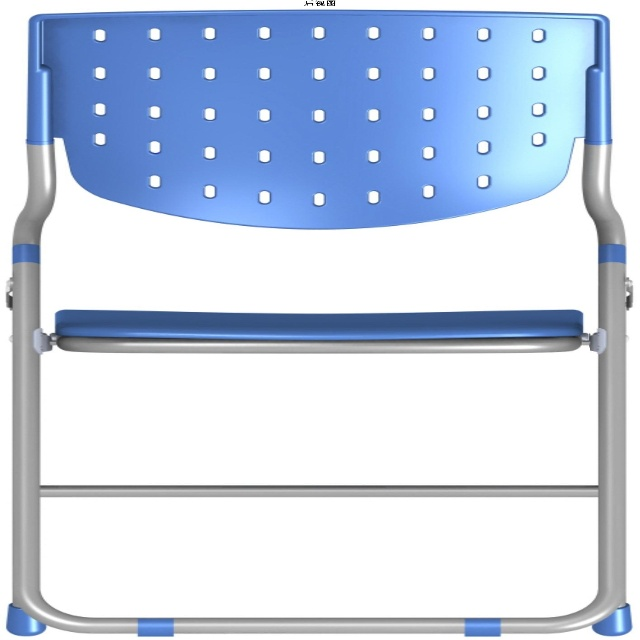obstacle: (9, 10, 628, 636)
